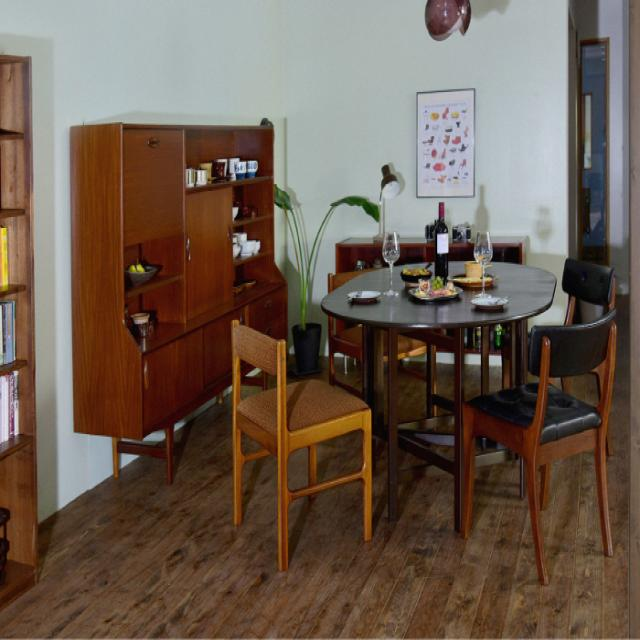vintage chair: (455, 308, 625, 586), (228, 314, 384, 580)
